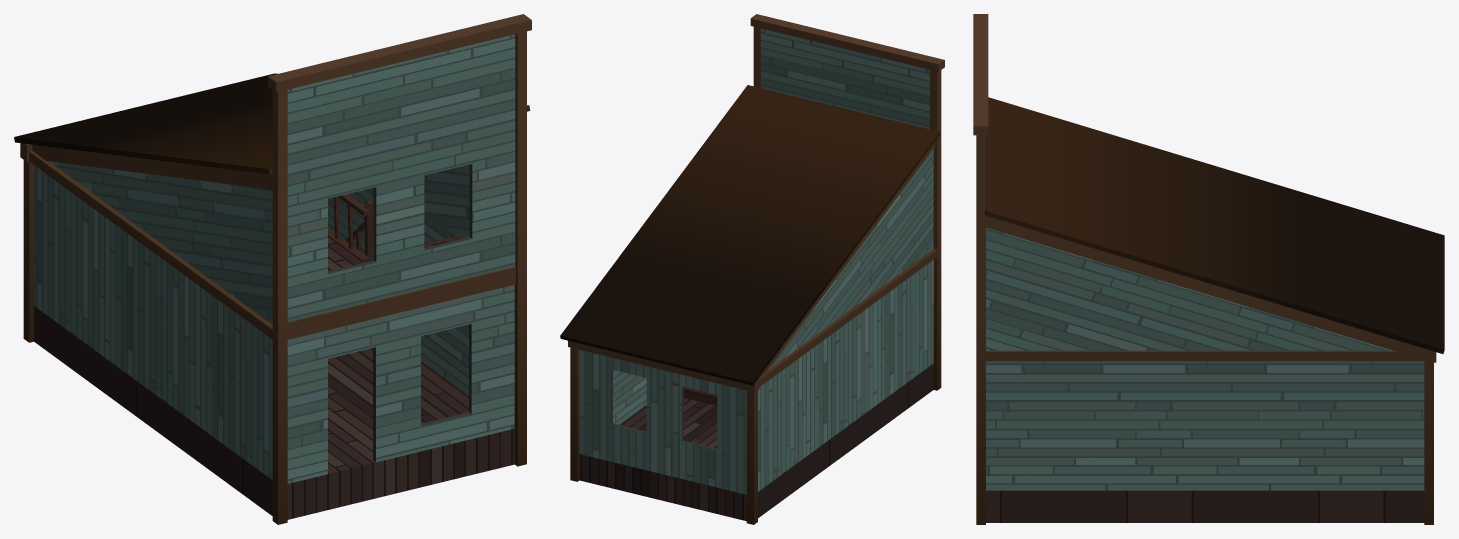
Rendered from House 5 M Green.glb.
3 renders of one model, left to right at view 1: azimuth 30°, elevation 25°; view 2: azimuth 150°, elevation 25°; view 3: azimuth 270°, elevation 25°, orthographic. The views are drawn at different scales.
Parts seen in each view (by area): view 1: House 5 M Green; view 2: House 5 M Green; view 3: House 5 M Green.
Part boxes in pixels (x1,y1,x2,y2): House 5 M Green: (14, 14, 531, 524); House 5 M Green: (560, 14, 944, 524); House 5 M Green: (973, 14, 1444, 524).
Size of what is drawn, in the model's own units: 5.44 by 8.87 by 9.47.
Materials: 3 (3 with a texture image).
